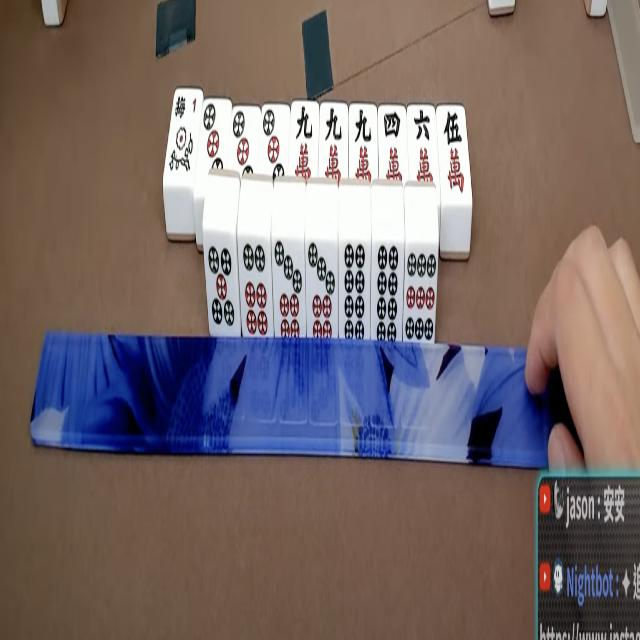f1: (168, 93, 199, 187)
m4: (379, 108, 406, 183)
m5: (439, 109, 469, 199)
m6: (410, 108, 436, 186)
m9: (322, 106, 348, 181), (290, 105, 316, 179), (348, 107, 374, 181)
t3: (260, 107, 288, 179), (202, 102, 226, 176), (232, 108, 256, 179)
t5: (203, 236, 239, 338)
t6: (238, 236, 271, 338)
t7: (273, 238, 303, 338), (308, 241, 336, 338)
t8: (372, 242, 401, 344), (341, 242, 369, 341)
t9: (405, 244, 438, 344)
